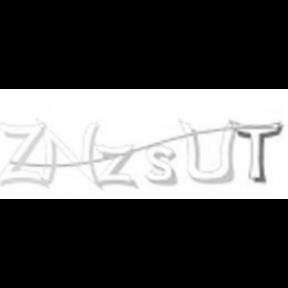N: (36, 115, 104, 189)
T: (234, 120, 284, 184)
U: (175, 113, 239, 185)
Z: (0, 121, 48, 189)
s: (144, 144, 178, 188)
z: (94, 141, 138, 189)
